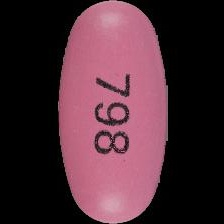49349-139: (0, 0, 224, 224)
